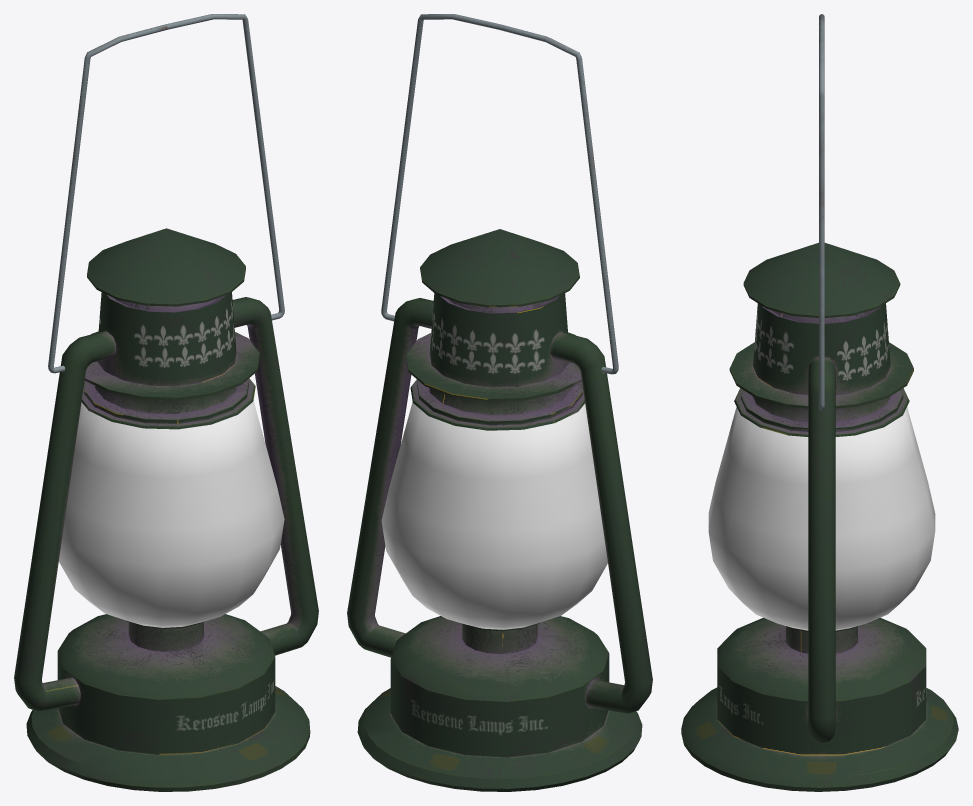
Rendered from KeroseneLamp 1.fbx.
3 renders of one model, left to right at view 1: azimuth 30°, elevation 25°; view 2: azimuth 150°, elevation 25°; view 3: azimuth 270°, elevation 25°, orthographic. The views are drawn at different scales.
Visible parts, largest first — view 1: Lamp; view 2: Lamp; view 3: Lamp.
Part boxes in pixels (x1=…): Lamp: x1=14, y1=14, x2=318, y2=791; Lamp: x1=347, y1=14, x2=652, y2=791; Lamp: x1=681, y1=14, x2=958, y2=791.
Size of the model in its own units: 0.2172 by 0.4883 by 0.1779.
